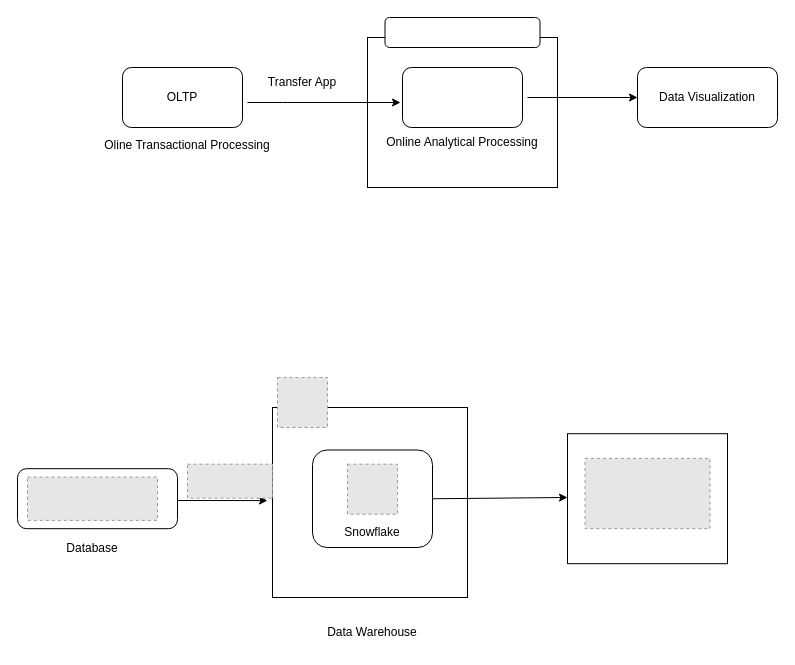
Image size: 795x665. Some labels were removed from this diagram. Grey dashed boxes stand in for pictures. The shapes that lost their labels are listed below. From the top down, each one's box as (x1, y1, x2, y2) in pixels, then its label:
(384, 16, 540, 48): Data Transformation
(402, 66, 522, 128): OLAP
